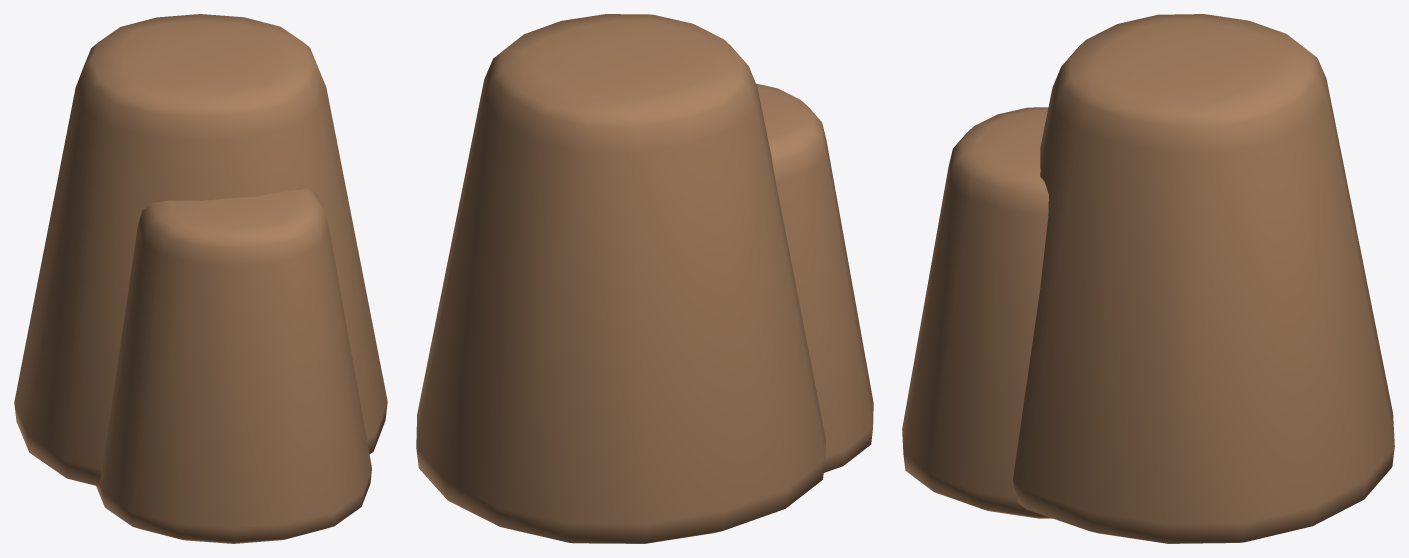
File: wall-forest-3.glb
The picture shows the model from 3 angles, left to right: view 1: azimuth 30°, elevation 25°; view 2: azimuth 150°, elevation 25°; view 3: azimuth 270°, elevation 25°; orthographic projection. The views are drawn at different scales.
Parts seen in each view (by area): view 1: piece; view 2: piece; view 3: piece.
Part boxes in pixels (bbox=[...]): piece: bbox=[14, 14, 387, 543]; piece: bbox=[416, 14, 873, 543]; piece: bbox=[902, 14, 1394, 543].
Size of the model in its own units: 2.62 by 2.99 by 3.15.
